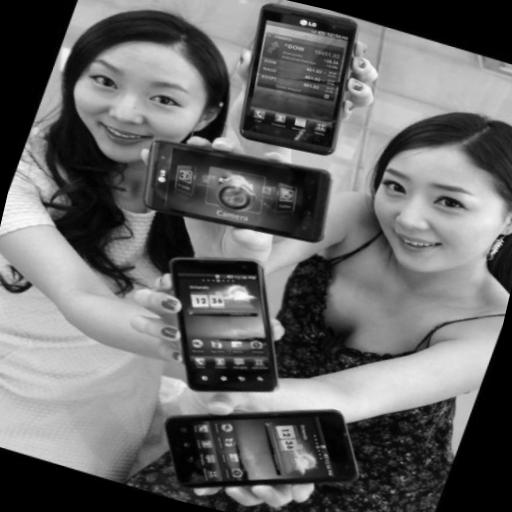phone: (137, 132, 338, 242), (172, 241, 286, 402), (238, 2, 359, 153), (163, 414, 358, 482)
